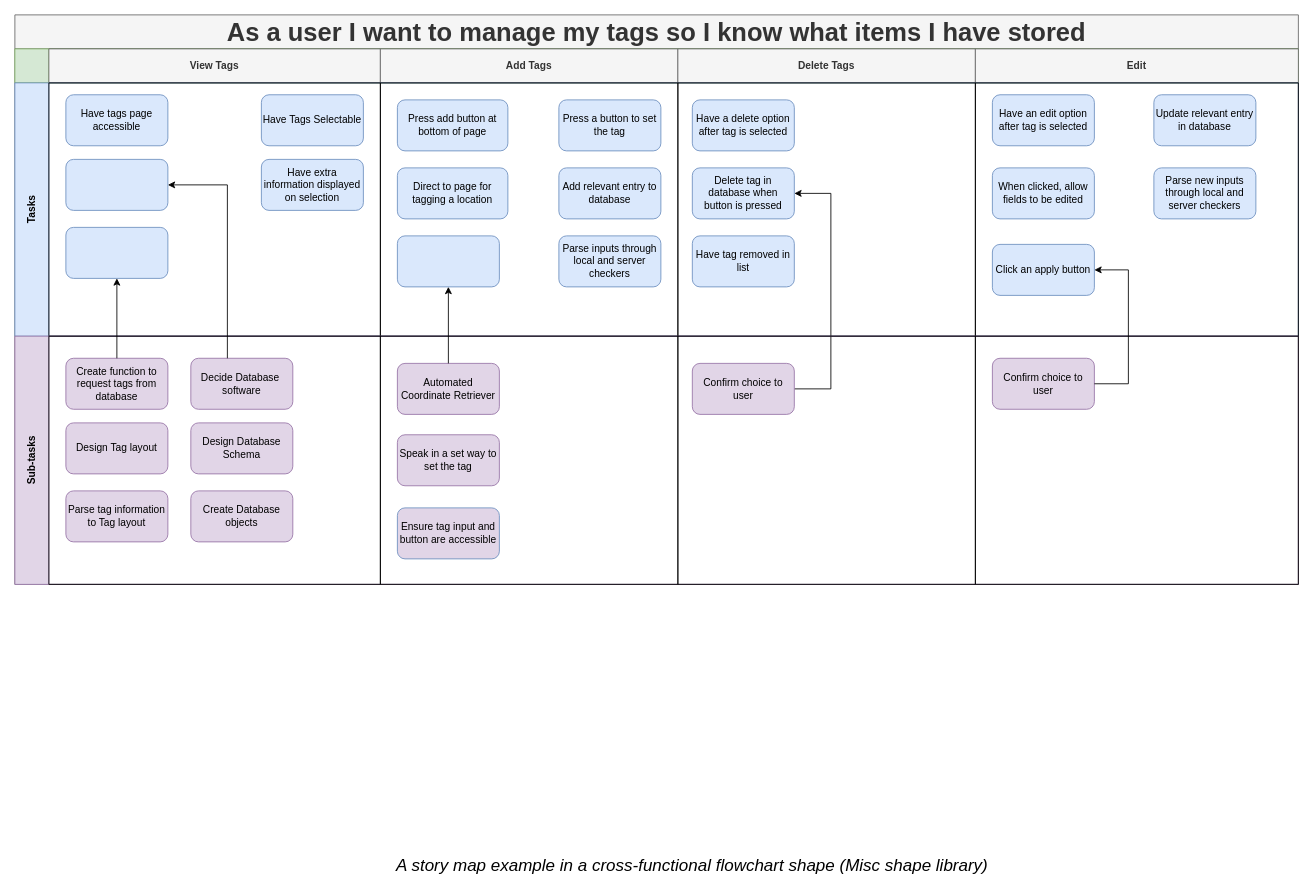
This 1313x890 diagram has some shape labels left out. Each missing label, with the box of its shape:
Display tags as a list: (65, 227, 168, 278)
Enter a manual Coordinate: (397, 235, 499, 287)
Set up database: (65, 159, 168, 210)
